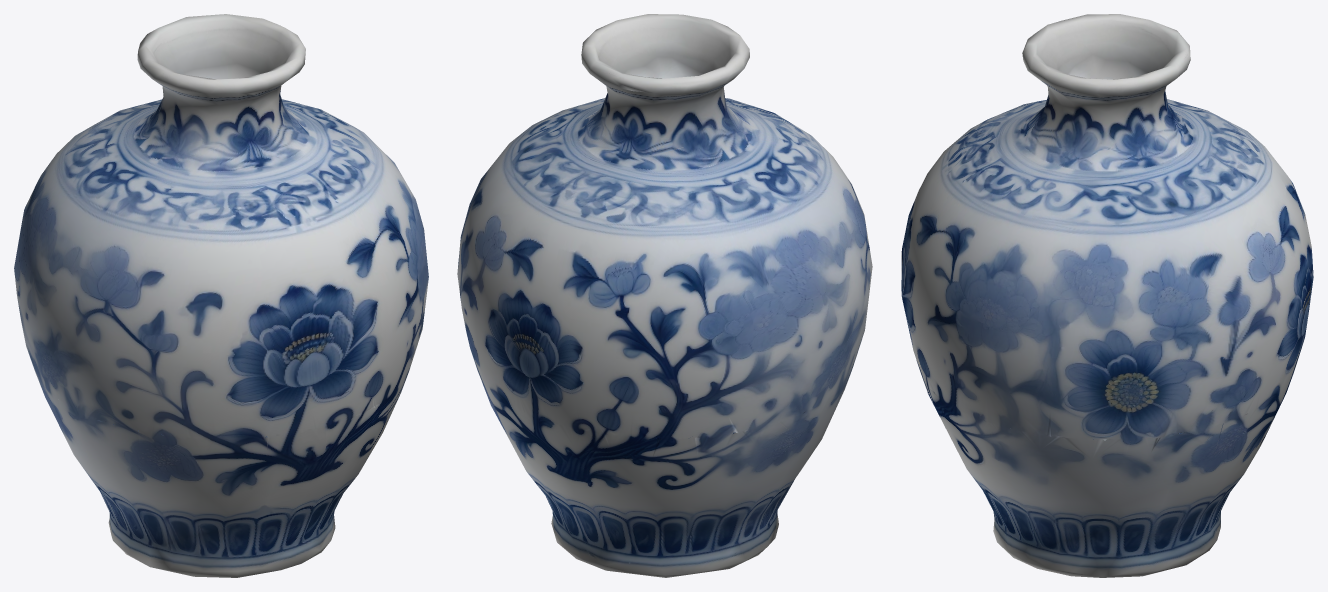
File: qinghuameiping.glb
3 renders of one model, left to right at view 1: azimuth 30°, elevation 25°; view 2: azimuth 150°, elevation 25°; view 3: azimuth 270°, elevation 25°, orthographic.
Parts seen in each view (by area): view 1: 青花梅瓶; view 2: 青花梅瓶; view 3: 青花梅瓶.
Boxes of the visible parts, x1=… form: 青花梅瓶: x1=14, y1=14, x2=428, y2=577; 青花梅瓶: x1=457, y1=14, x2=872, y2=577; 青花梅瓶: x1=901, y1=14, x2=1313, y2=577.
Size of the model in its own units: 0.3073 by 0.4 by 0.3059.
Materials: 1 (1 with a texture image).
